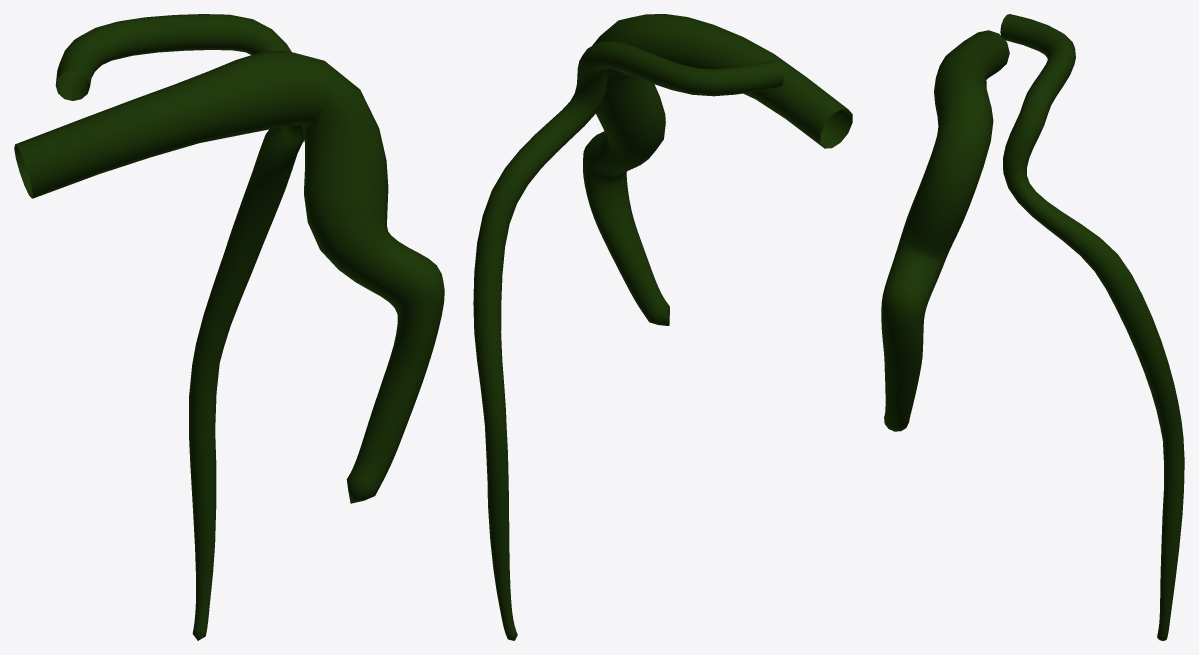
File: Temple_VineClump_Random.FBX
3 views of the same model, side by side, from view 1: azimuth 30°, elevation 25°; view 2: azimuth 150°, elevation 25°; view 3: azimuth 270°, elevation 25° (orthographic). The views are drawn at different scales.
Visible parts, largest first — view 1: DetachedObject017; view 2: DetachedObject017; view 3: DetachedObject017.
Boxes of the visible parts, x1,y1,x2,y2 form: DetachedObject017: (14,14,444,640); DetachedObject017: (473,14,852,640); DetachedObject017: (881,14,1184,640).
Size of the model in its own units: 3.74 by 6.74 by 3.43.
